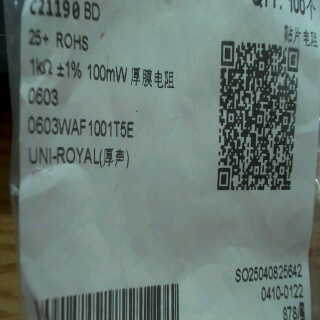1kR: (28, 52, 54, 78)
